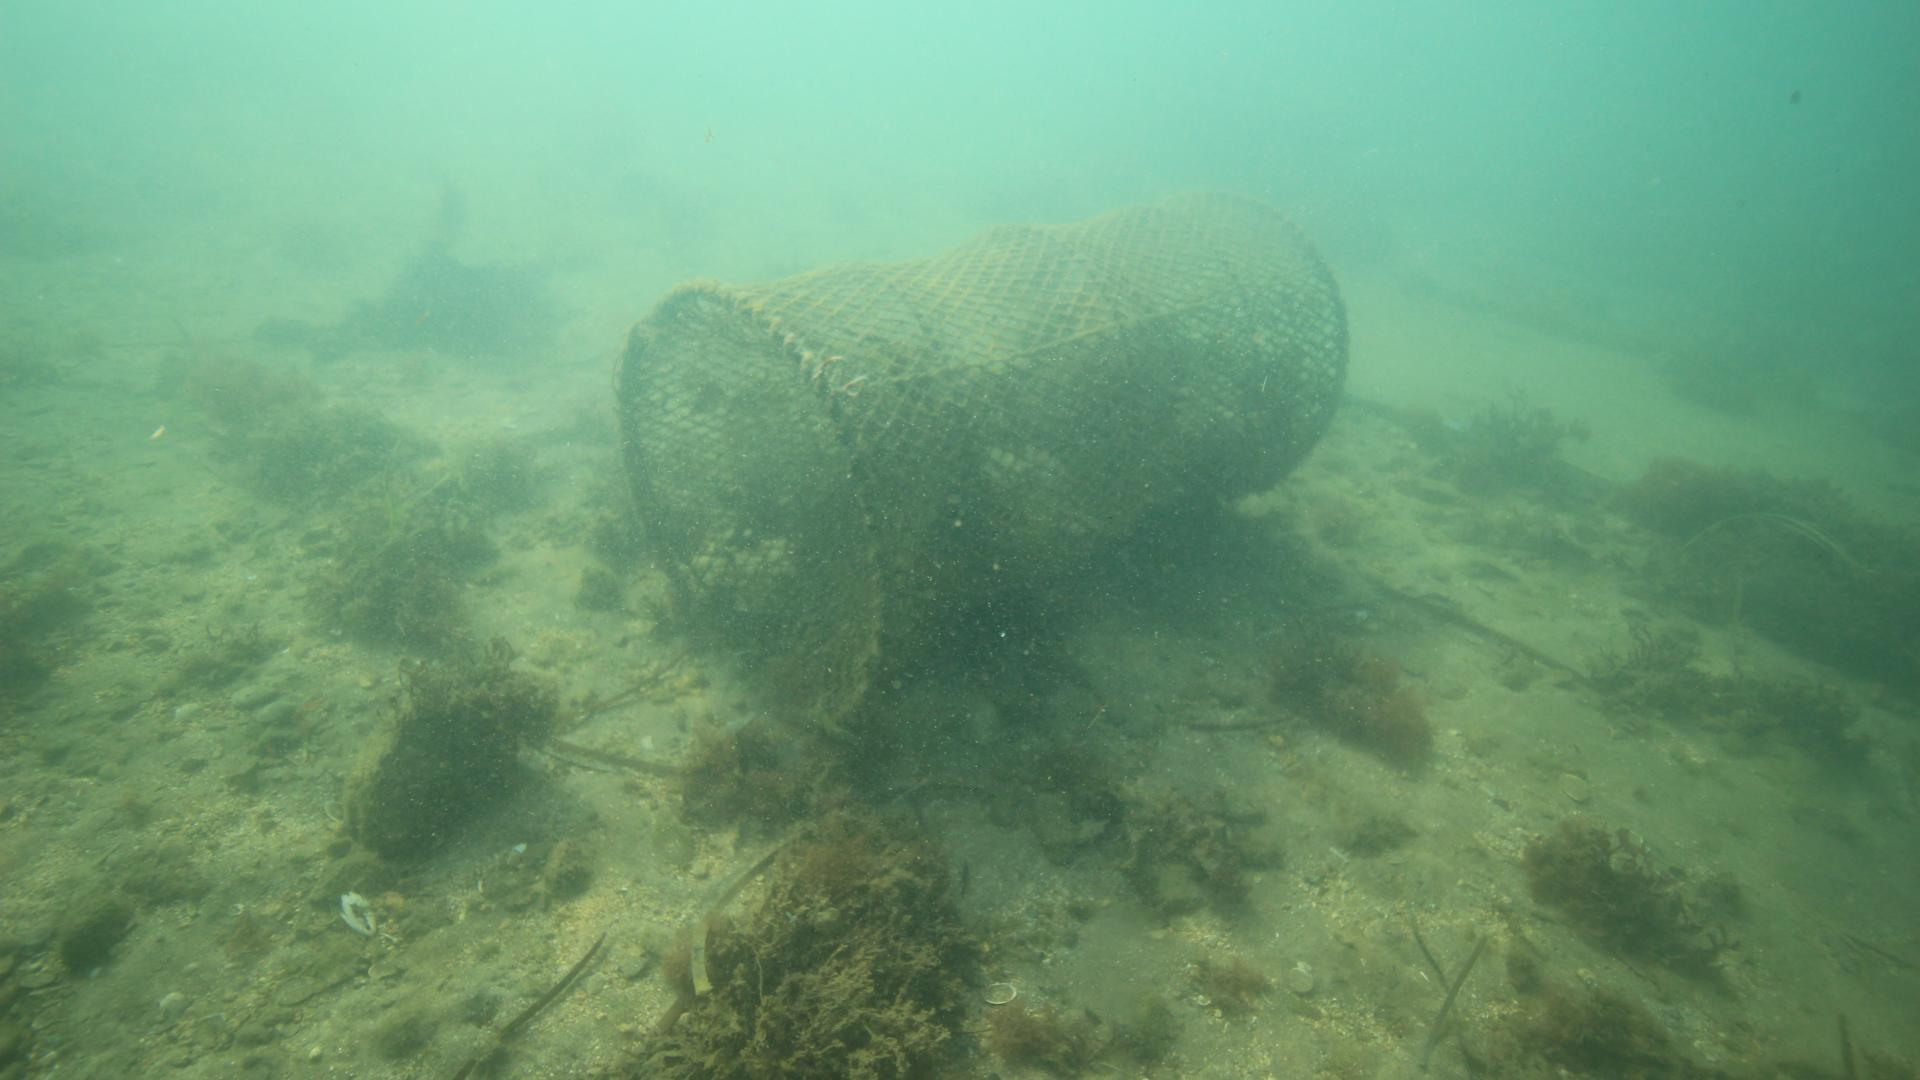spring fish trap: (615, 183, 1350, 740)
